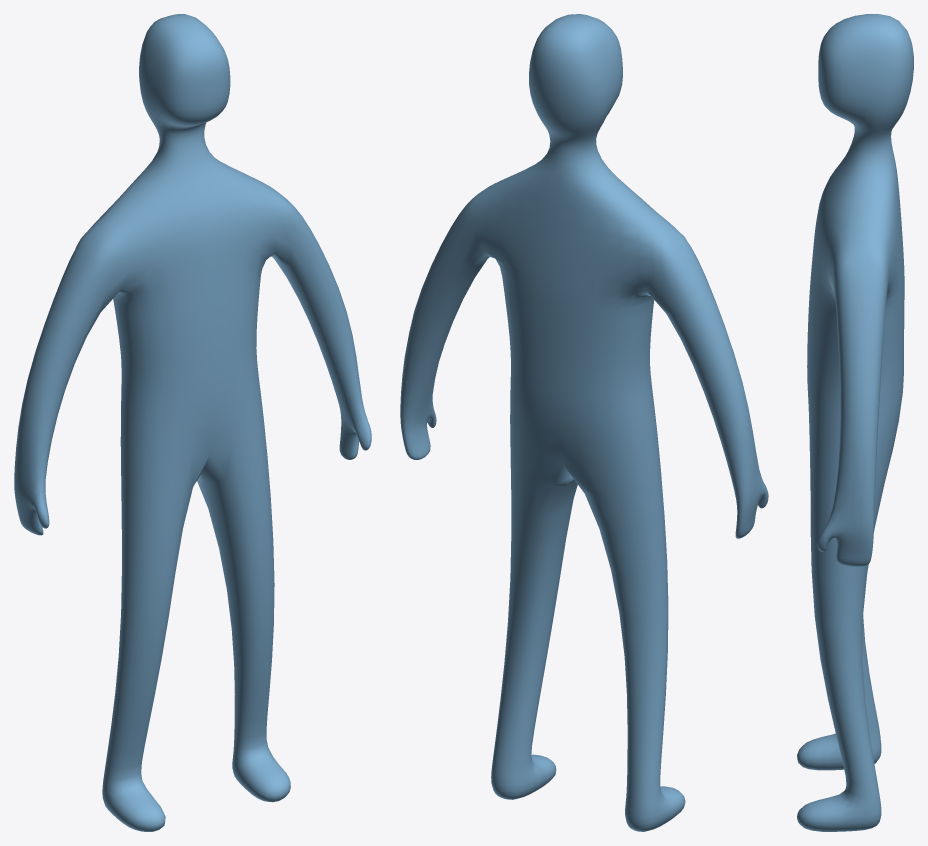
Rendered from kanta_003.fbx.
3 renders of one model, left to right at view 1: azimuth 30°, elevation 25°; view 2: azimuth 150°, elevation 25°; view 3: azimuth 270°, elevation 25°, orthographic. The views are drawn at different scales.
Visible parts, largest first — view 1: Cube; view 2: Cube; view 3: Cube.
Boxes of the visible parts, box(x1,y1,x2,y2) form: Cube: box(14, 14, 371, 831); Cube: box(400, 14, 768, 831); Cube: box(797, 14, 913, 831).
Bounding box in the file's own units: 252 × 550 × 74.8.
